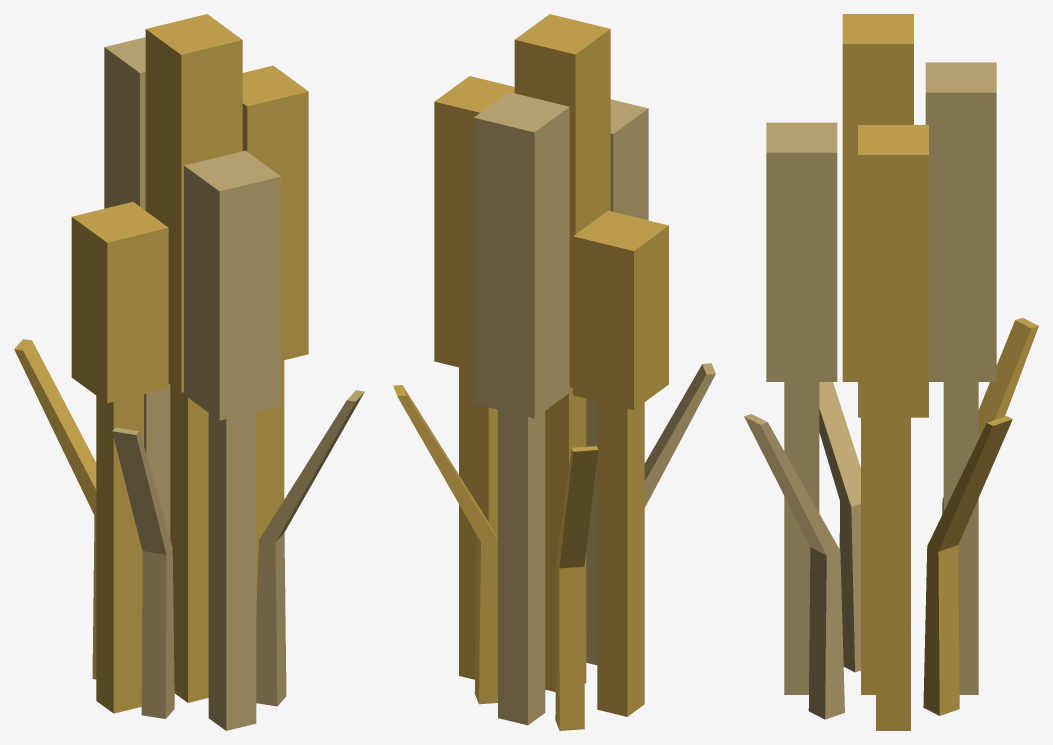
The picture shows the model from 3 angles, left to right: view 1: azimuth 30°, elevation 25°; view 2: azimuth 150°, elevation 25°; view 3: azimuth 270°, elevation 25°; orthographic projection.
Visible parts, largest first — view 1: trigo; view 2: trigo; view 3: trigo.
Boxes of the visible parts, <box> form: trigo: <box>14,14,364,730</box>; trigo: <box>393,14,715,730</box>; trigo: <box>744,14,1038,730</box>.
Bounding box in the file's own units: 49.65 × 134 × 54.47.
